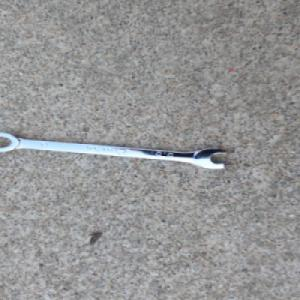Wrench: (0, 132, 231, 170)
